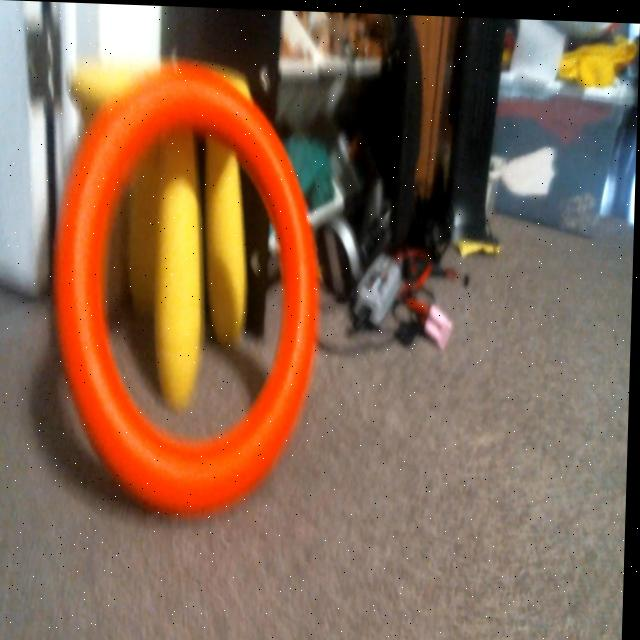note: (45, 49, 327, 520)
